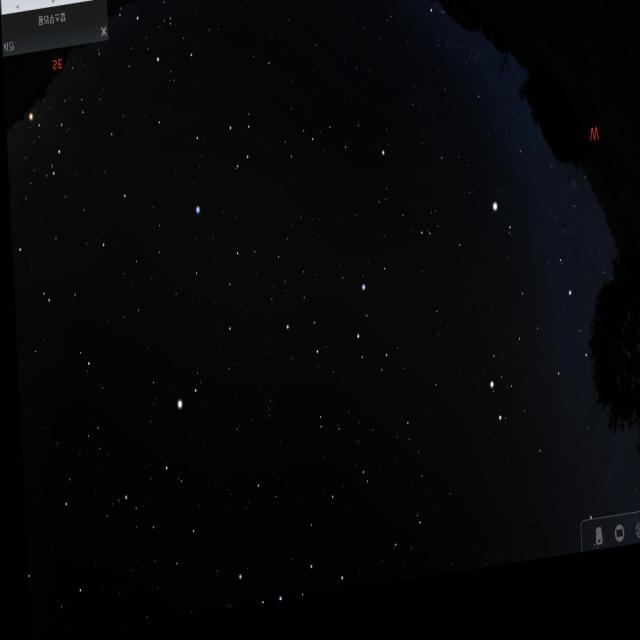bootes: (131, 385, 211, 597)
canis_minor: (474, 198, 522, 271)
gemini: (477, 297, 594, 460)
leo: (266, 253, 399, 408)
